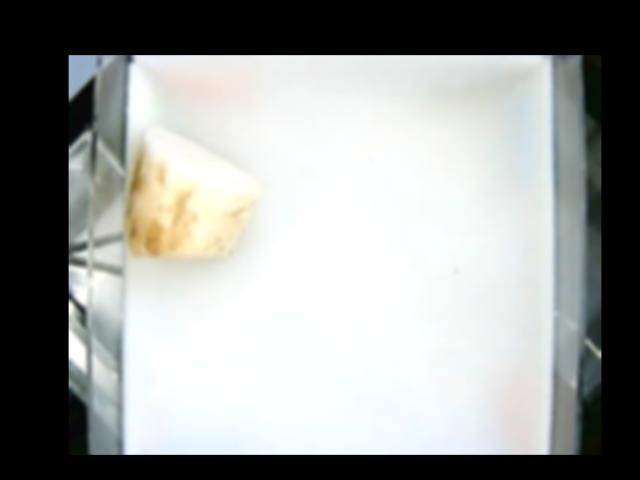Mooli: (126, 125, 262, 259)
